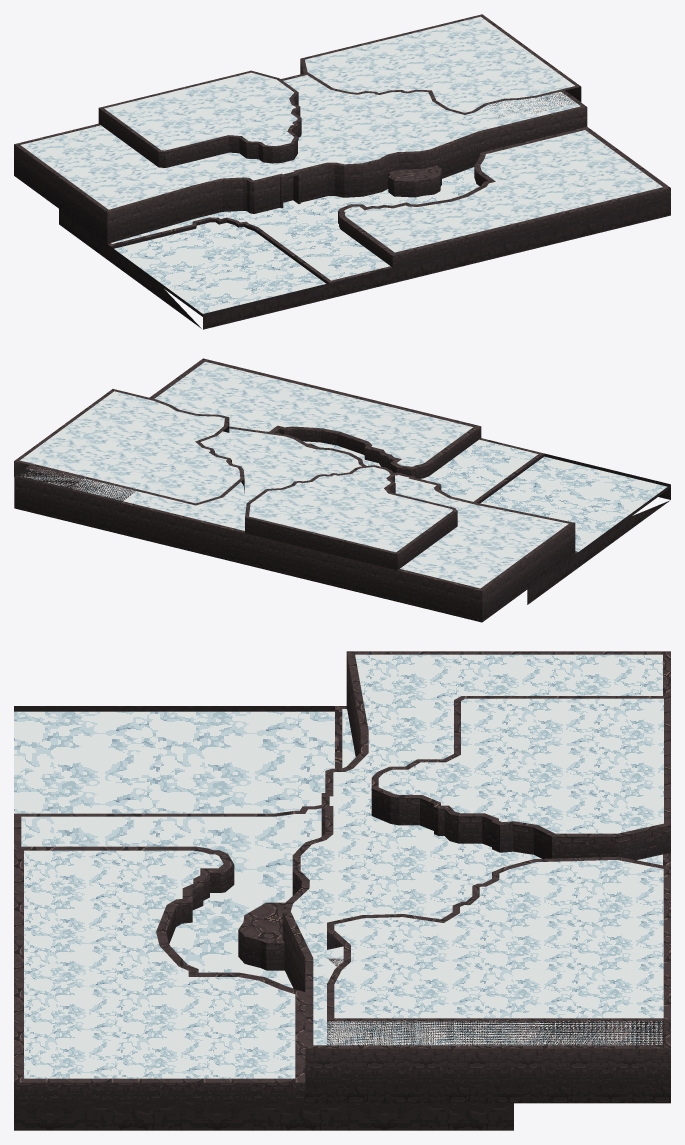
File: map_mesh_titans_respite_6.glb
3 renders of one model, top to bottom at view 1: azimuth 30°, elevation 25°; view 2: azimuth 150°, elevation 25°; view 3: azimuth 270°, elevation 25°, orthographic. The views are drawn at different scales.
Parts seen in each view (by area): view 1: Plane.102, Plane.097, Plane.100, Plane.104, Plane.103, Plane.101; view 2: Plane.102, Plane.104, Plane.100, Plane.097, Plane.103; view 3: Plane.102, Plane.097, Plane.100, Plane.104, Plane.103, Plane.101.
Part boxes in pixels (<box>): Plane.102: <box>14,73,587,243</box>; Plane.097: <box>59,167,670,329</box>; Plane.100: <box>338,127,670,267</box>; Plane.104: <box>300,14,581,117</box>; Plane.103: <box>98,70,301,167</box>; Plane.101: <box>388,165,441,197</box>; Plane.102: <box>14,426,575,622</box>; Plane.104: <box>14,389,244,505</box>; Plane.100: <box>149,358,481,478</box>; Plane.097: <box>303,438,670,604</box>; Plane.103: <box>245,465,457,570</box>; Plane.102: <box>282,651,670,1103</box>; Plane.097: <box>14,706,513,1130</box>; Plane.100: <box>14,846,305,1103</box>; Plane.104: <box>327,856,670,1047</box>; Plane.103: <box>371,696,670,860</box>; Plane.101: <box>238,902,284,970</box>.
Size of the model in its own units: 62.29 by 8 by 43.52.
3 materials, 3 textured.
